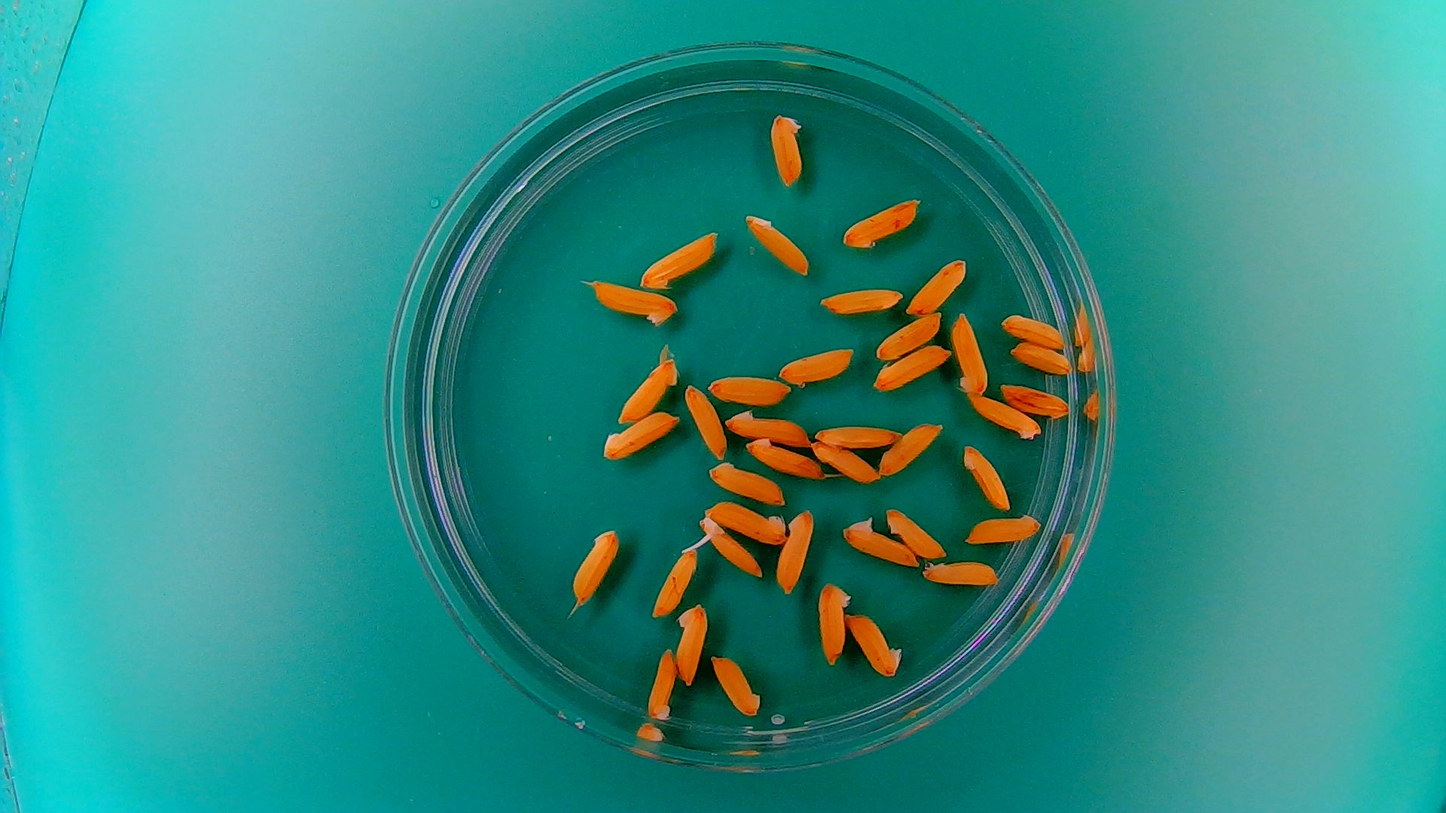no: (639, 227, 719, 291), (582, 276, 679, 328), (615, 351, 681, 425), (742, 210, 812, 279), (596, 406, 682, 461), (839, 194, 923, 250), (568, 525, 621, 607), (843, 609, 904, 680), (701, 498, 789, 545), (871, 342, 953, 392), (880, 419, 945, 478), (959, 440, 1011, 513), (905, 256, 969, 315), (650, 544, 700, 619), (966, 391, 1042, 440), (681, 382, 728, 461), (883, 504, 949, 560), (724, 405, 814, 446), (709, 652, 764, 719), (775, 345, 859, 388), (705, 460, 787, 504), (872, 311, 944, 361), (776, 505, 816, 595), (950, 310, 990, 397), (807, 440, 882, 485), (746, 437, 823, 480), (816, 578, 853, 667), (704, 370, 795, 406), (674, 599, 710, 690), (998, 381, 1075, 420), (767, 109, 805, 187), (962, 511, 1044, 547), (813, 419, 904, 450), (818, 283, 904, 315), (922, 556, 1002, 589), (998, 312, 1067, 350), (644, 645, 677, 723), (1008, 340, 1073, 376)
yes: (840, 513, 919, 569), (697, 514, 764, 579)
